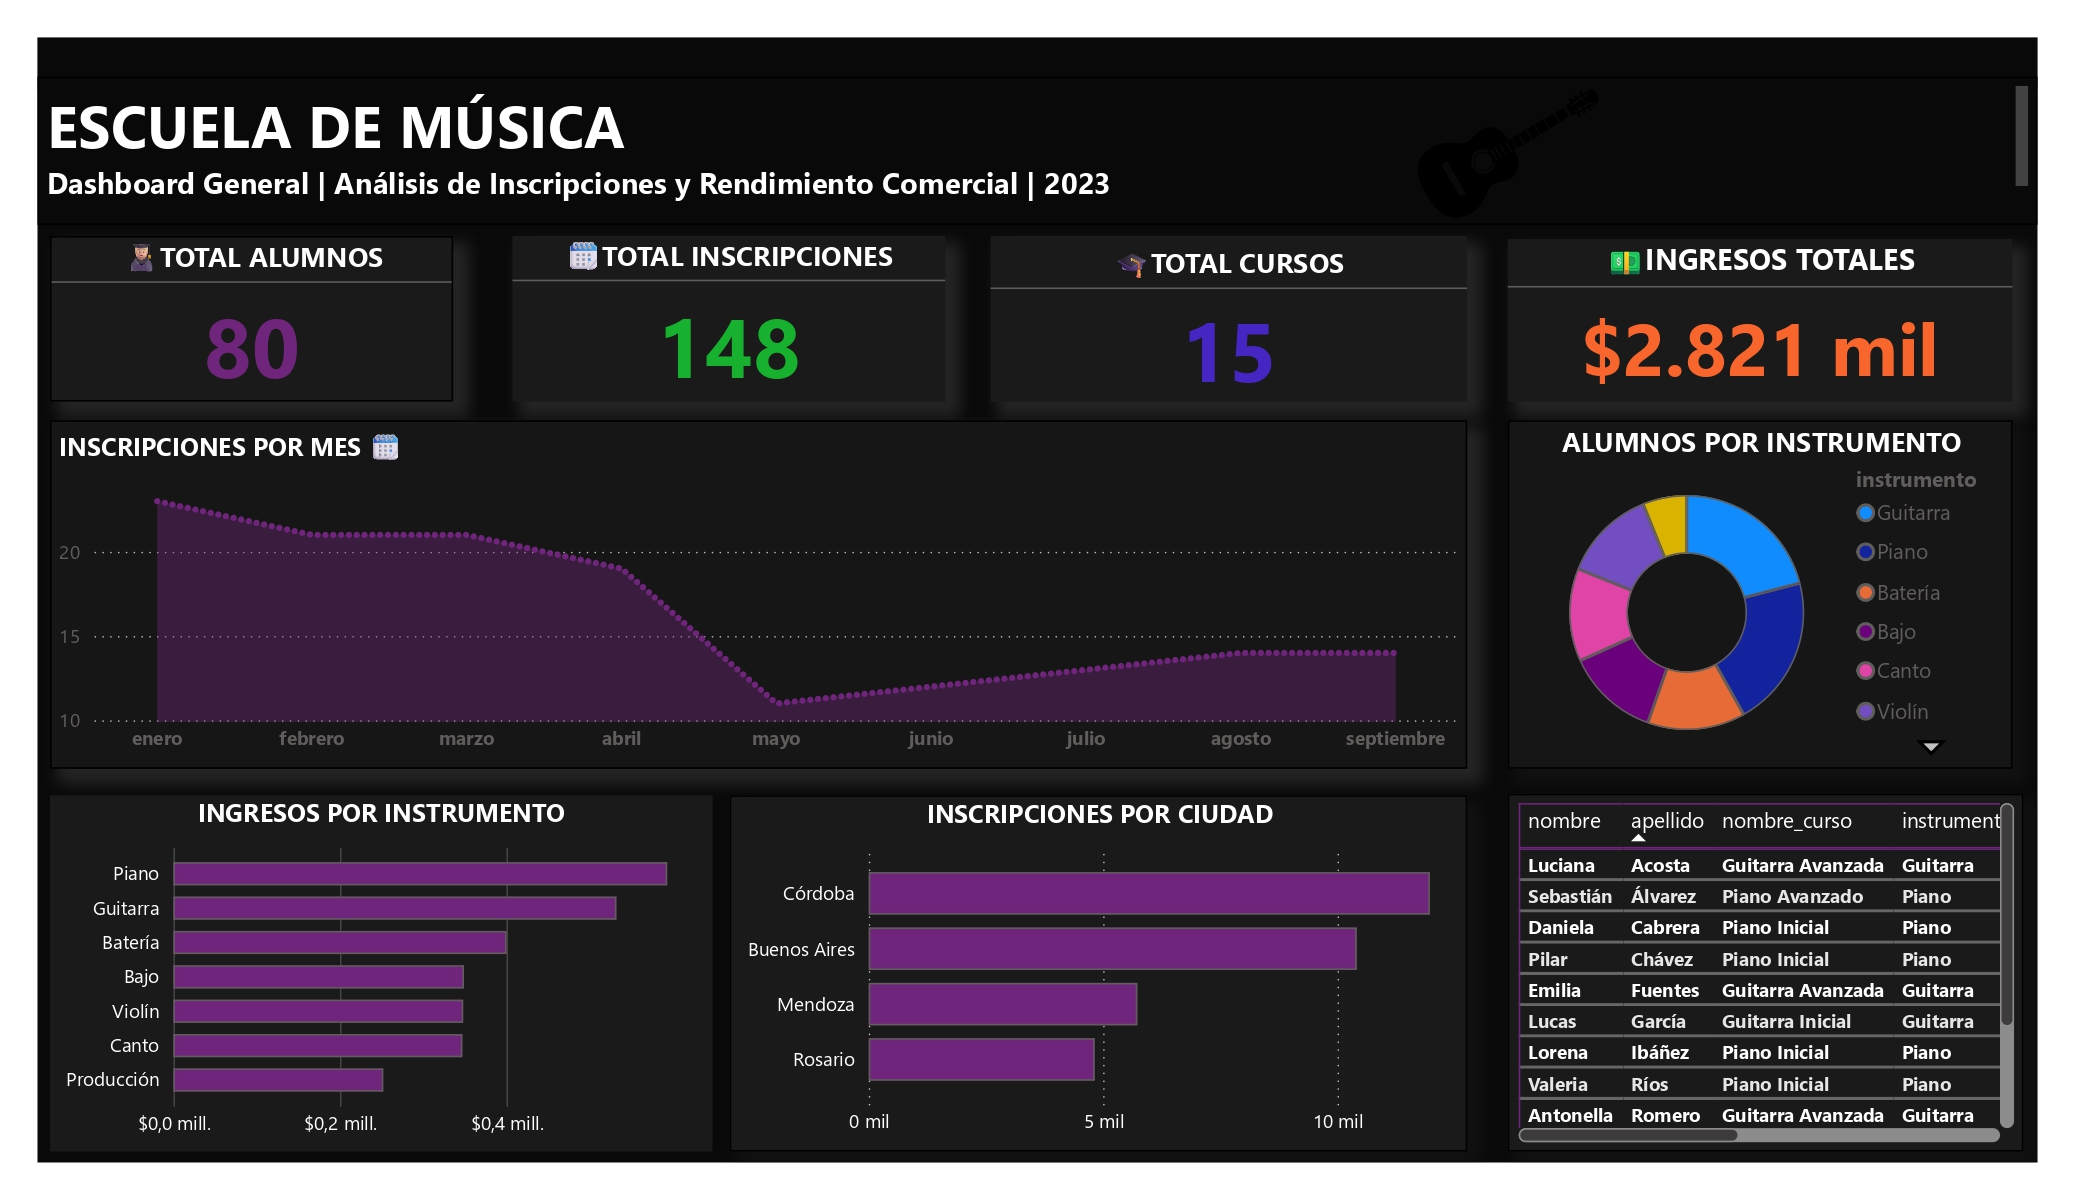

The dashboard page shown, as its layout file describes it:
{"tool":"powerbi","page":{"name":"Página 1","canvas":[1280,720],"ordinal":0},"visuals":[{"type":"card","title":"🧑🏼🎓TOTAL ALUMNOS","fields":{"Values":["CountNonNull(alumnos.id_alumno)"]},"box":[8.1,127.5,257.7,105.9],"z":0},{"type":"textbox","box":[0,25.1,1280.2,95.2],"z":1000},{"type":"card","title":"🎓TOTAL CURSOS","fields":{"Values":["CountNonNull(cursos.id_curso)"]},"box":[609.6,127.5,305.2,105.9],"z":2000},{"type":"card","title":"💵INGRESOS TOTALES","fields":{"Values":["inscripciones.Ingresos Totales"]},"box":[940.8,129.3,323.2,104.1],"z":3000},{"type":"card","title":"🗓️TOTAL INSCRIPCIONES","fields":{"Values":["CountNonNull(inscripciones.id_inscripcion)"]},"box":[304.3,127.5,276.5,105.9],"z":4000},{"type":"lineChart","title":"INSCRIPCIONES POR MES 🗓️","fields":{"Category":["inscripciones.fecha_inscripcion.Variación.Jerarquía de fechas.Mes"],"Y":["CountNonNull(inscripciones.id_inscripcion)"]},"box":[8.1,245.1,906.7,222.6],"z":5000},{"type":"donutChart","title":"ALUMNOS POR INSTRUMENTO","fields":{"Category":["cursos.instrumento"],"Y":["CountNonNull(inscripciones.id_inscripcion)"]},"box":[940.8,245.1,323.2,222.6],"z":6000},{"type":"clusteredBarChart","title":"INGRESOS POR INSTRUMENTO","fields":{"Y":["inscripciones.Ingresos Totales"],"Category":["cursos.instrumento"]},"box":[8.1,484.8,423.7,228],"z":7000},{"type":"clusteredBarChart","title":"INSCRIPCIONES POR CIUDAD","fields":{"Category":["alumnos.ciudad"],"Y":["Sum(inscripciones.id_inscripcion)"]},"box":[442.6,484.8,472.2,228],"z":8000},{"type":"tableEx","fields":{"Values":["alumnos.nombre","alumnos.apellido","cursos.nombre_curso","cursos.instrumento","inscripciones.fecha_inscripcion","Sum(inscripciones.abono_inscripcion)"]},"box":[940.8,483.9,330.4,228.9],"z":9000},{"type":"image","box":[718.2,9.9,444.4,119.4],"z":10000}]}

Visuals, with their boxes on the page's 1280x720 design canvas (x1, y1, x2, y2). These are canvas units, not pixel positions in the 2075x1200 screenshot, which may show the page scaled, cropped or inside an application window:
"🧑🏼🎓TOTAL ALUMNOS" card: 8, 128, 266, 233
textbox: 0, 25, 1280, 120
"🎓TOTAL CURSOS" card: 610, 128, 915, 233
"💵INGRESOS TOTALES" card: 941, 129, 1264, 233
"🗓️TOTAL INSCRIPCIONES" card: 304, 128, 581, 233
"INSCRIPCIONES POR MES 🗓️" lineChart: 8, 245, 915, 468
"ALUMNOS POR INSTRUMENTO" donutChart: 941, 245, 1264, 468
"INGRESOS POR INSTRUMENTO" clusteredBarChart: 8, 485, 432, 713
"INSCRIPCIONES POR CIUDAD" clusteredBarChart: 443, 485, 915, 713
tableEx - alumnos.nombre x alumnos.apellido: 941, 484, 1271, 713
image: 718, 10, 1163, 129
